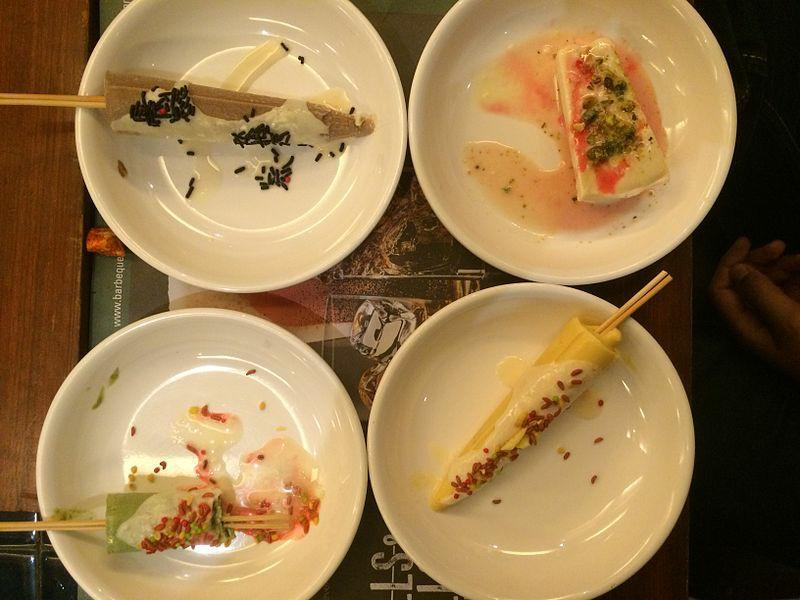Kulfi: (430, 318, 625, 517), (103, 68, 374, 142), (553, 42, 670, 206), (99, 488, 235, 559)
